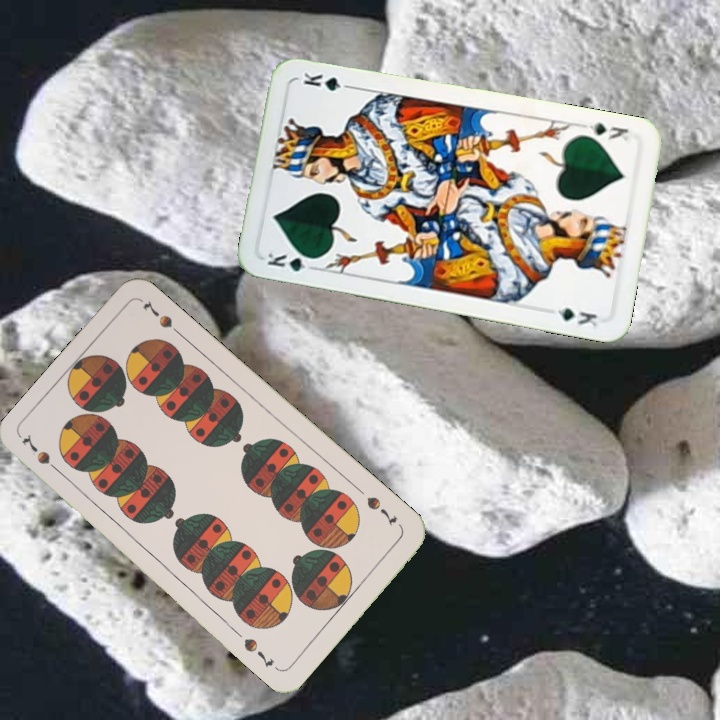GK: (263, 248, 321, 275), (579, 118, 631, 144)
S7: (17, 431, 66, 478), (362, 492, 400, 528)
